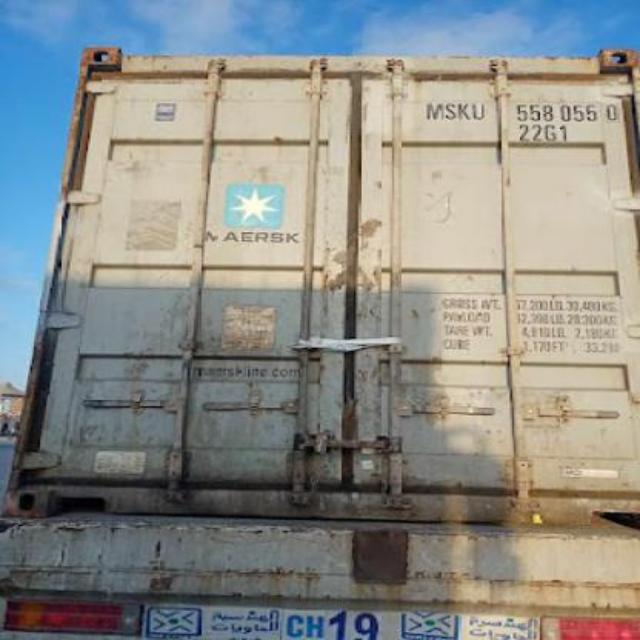0: (560, 102, 574, 125), (606, 102, 618, 118)
5: (584, 101, 598, 122), (516, 103, 530, 121), (572, 101, 584, 122), (530, 103, 542, 121)
8: (542, 103, 554, 121)
K: (456, 102, 472, 120)
M: (426, 102, 444, 122)
S: (442, 102, 458, 120)
U: (472, 102, 486, 120)
